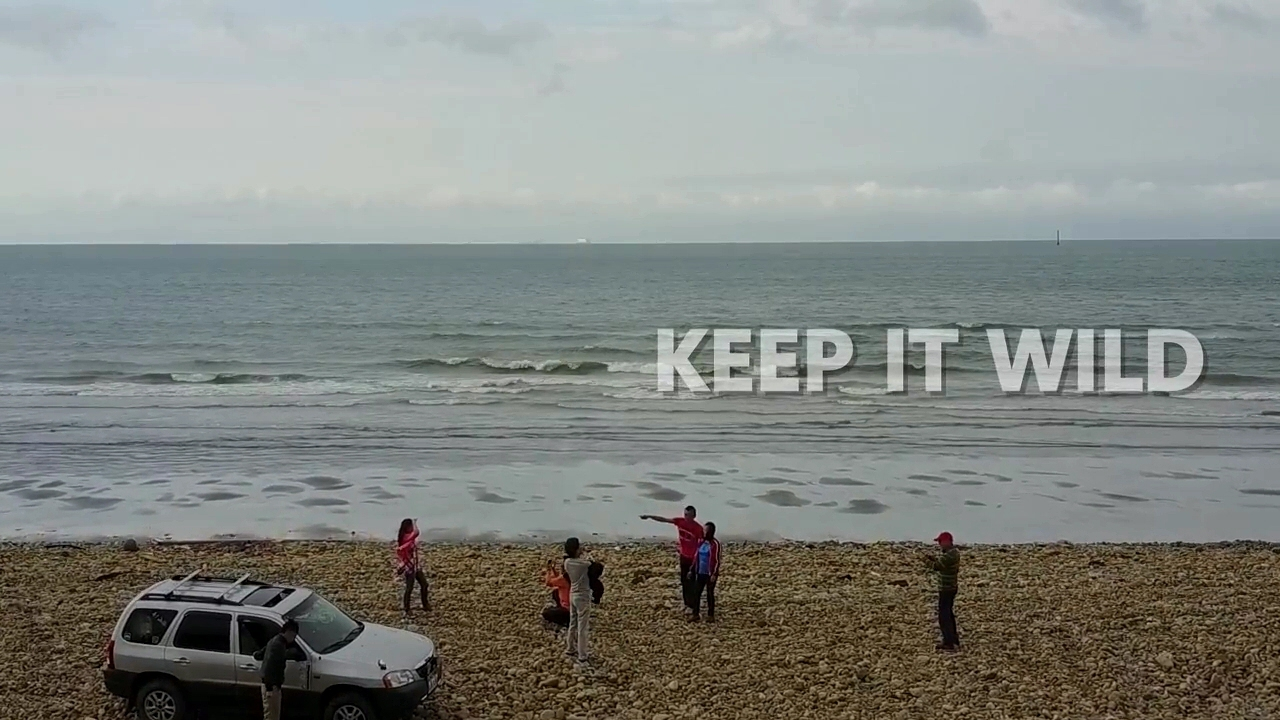araba: (99, 570, 449, 720)
insan: (640, 502, 704, 617), (561, 537, 606, 670), (252, 615, 305, 720), (920, 529, 961, 653), (687, 522, 724, 625), (397, 513, 427, 614)
